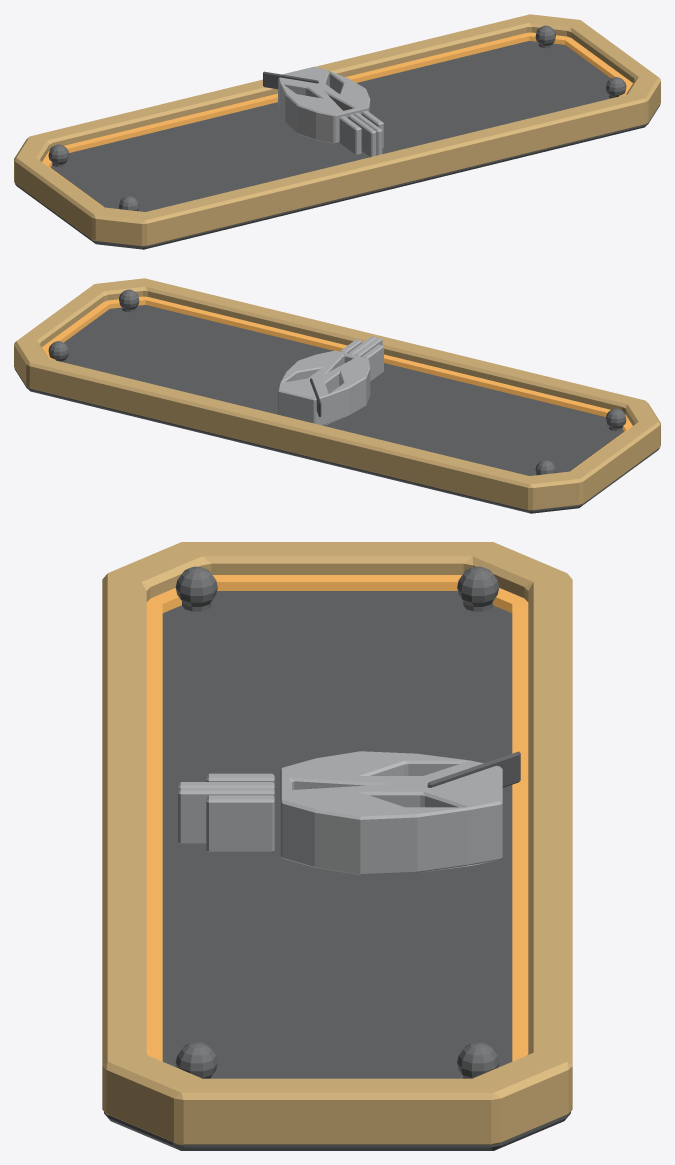
Rendered from identity-plaque-b.glb.
3 views of the same model, one above another, from view 1: azimuth 30°, elevation 25°; view 2: azimuth 150°, elevation 25°; view 3: azimuth 270°, elevation 25° (orthographic). The views are drawn at different scales.
Visible parts, largest first — view 1: PlaqueBase, BrassFrame, SkullRelief, LightChannel, Rivet_TR, Rivet_TL; view 2: PlaqueBase, BrassFrame, SkullRelief, LightChannel, Rivet_BR, Rivet_BL; view 3: PlaqueBase, BrassFrame, SkullRelief, LightChannel, Rivet_BL, Rivet_TL, Rivet_BR, Rivet_TR.
Part boxes in pixels (x1,y1,x2,y2): PlaqueBase: (15,41,660,249); BrassFrame: (14,14,660,246); SkullRelief: (263,66,383,157); LightChannel: (42,32,632,207); Rivet_TR: (535,25,555,48); Rivet_TL: (48,144,68,166); PlaqueBase: (14,305,659,513); BrassFrame: (14,278,660,510); SkullRelief: (278,336,383,425); LightChannel: (42,296,632,471); Rivet_BR: (119,289,139,312); Rivet_BL: (606,408,626,430); PlaqueBase: (104,591,570,1150); BrassFrame: (102,542,572,1145); SkullRelief: (178,751,520,875); LightChannel: (146,575,528,1061); Rivet_BL: (175,566,217,611); Rivet_TL: (457,566,499,611); Rivet_BR: (175,1042,217,1078); Rivet_TR: (457,1042,499,1078).
Bounding box in the file's own units: 0.461 × 0.038 × 0.165.
